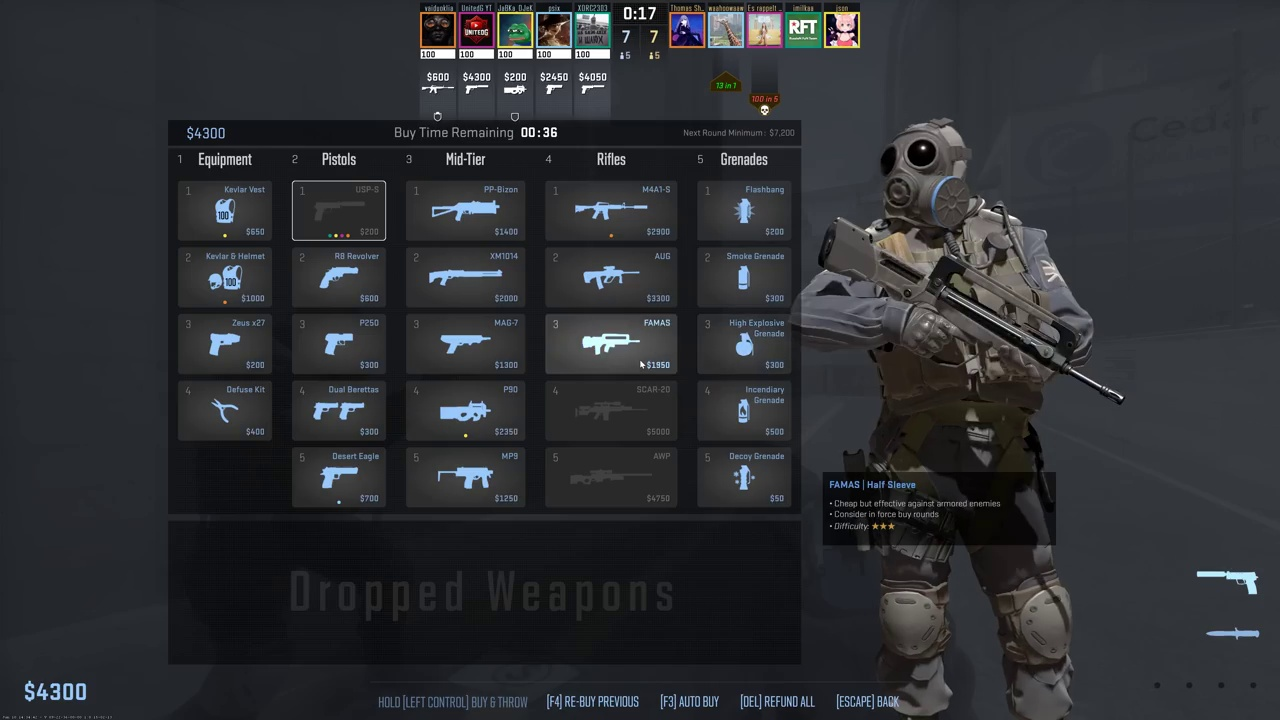CT: (858, 125, 1077, 718)
